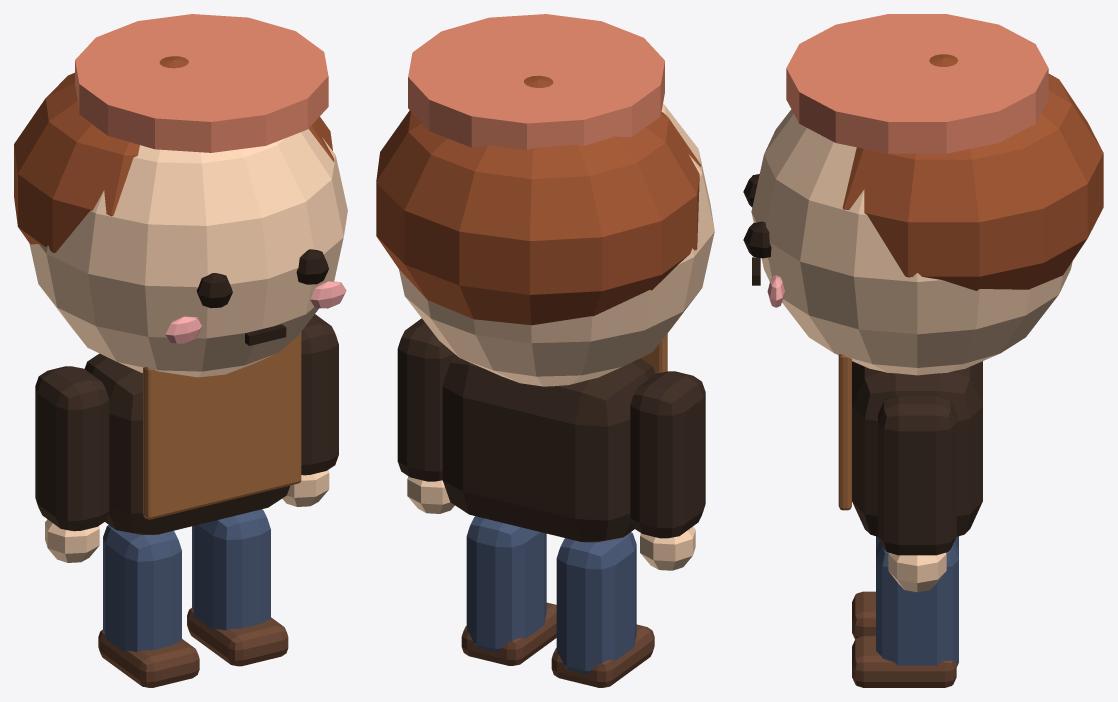
File: kar_penjaga_kafe.fbx
The picture shows the model from 3 angles, left to right: view 1: azimuth 30°, elevation 25°; view 2: azimuth 150°, elevation 25°; view 3: azimuth 270°, elevation 25°; orthographic projection. The views are drawn at different scales.
Visible parts, largest first — view 1: kar_penjaga_kafe; view 2: kar_penjaga_kafe; view 3: kar_penjaga_kafe.
Part boxes in pixels (x1,y1,x2,y2): kar_penjaga_kafe: [14, 14, 347, 687]; kar_penjaga_kafe: [376, 14, 714, 687]; kar_penjaga_kafe: [743, 14, 1103, 687].
Bounding box in the file's own units: 76 × 151 × 82.44.
1 material, 1 textured.
